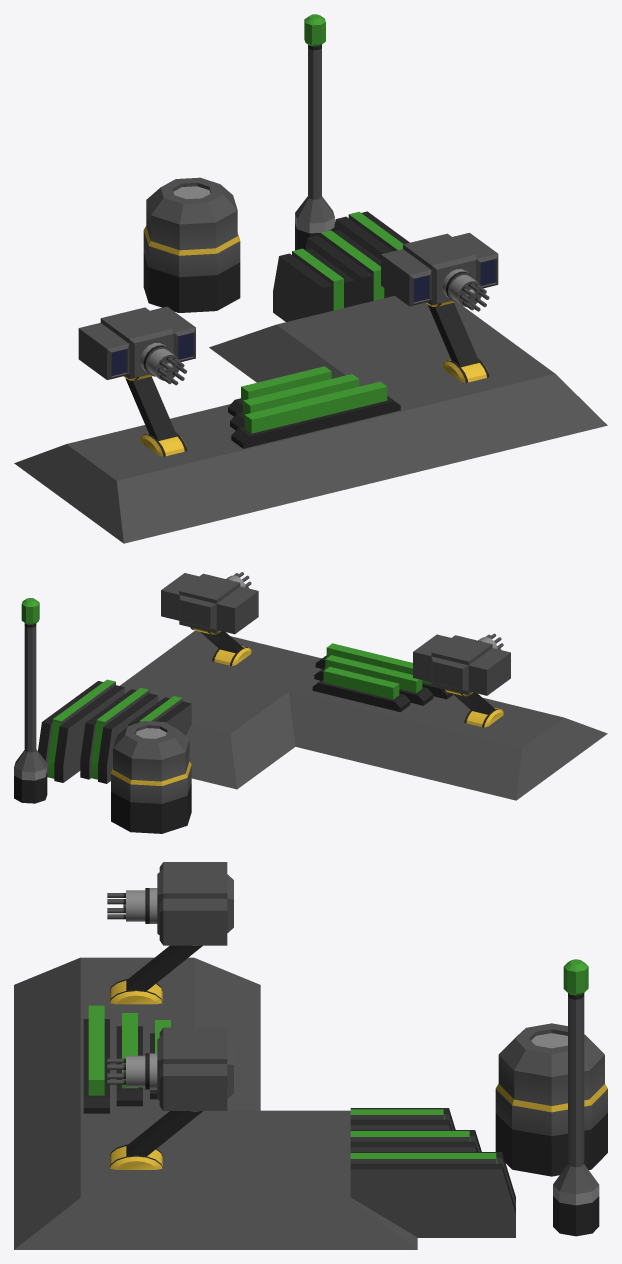
File: gunSize3L.glb
3 views of the same model, one above another, from view 1: azimuth 30°, elevation 25°; view 2: azimuth 150°, elevation 25°; view 3: azimuth 270°, elevation 25° (orthographic). The views are drawn at different scales.
Parts seen in each view (by area): view 1: Gun Size 3 L; view 2: Gun Size 3 L; view 3: Gun Size 3 L.
Boxes of the visible parts, <box> form: Gun Size 3 L: <box>14,14,607,543</box>; Gun Size 3 L: <box>14,572,607,833</box>; Gun Size 3 L: <box>14,862,607,1249</box>.
Bounding box in the file's own units: 1.93 × 0.9018 × 1.83.
